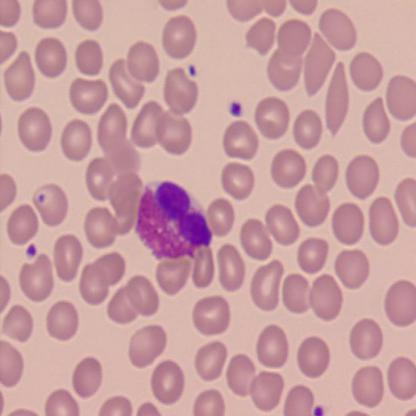Eosinophil: (138, 180, 214, 258)
